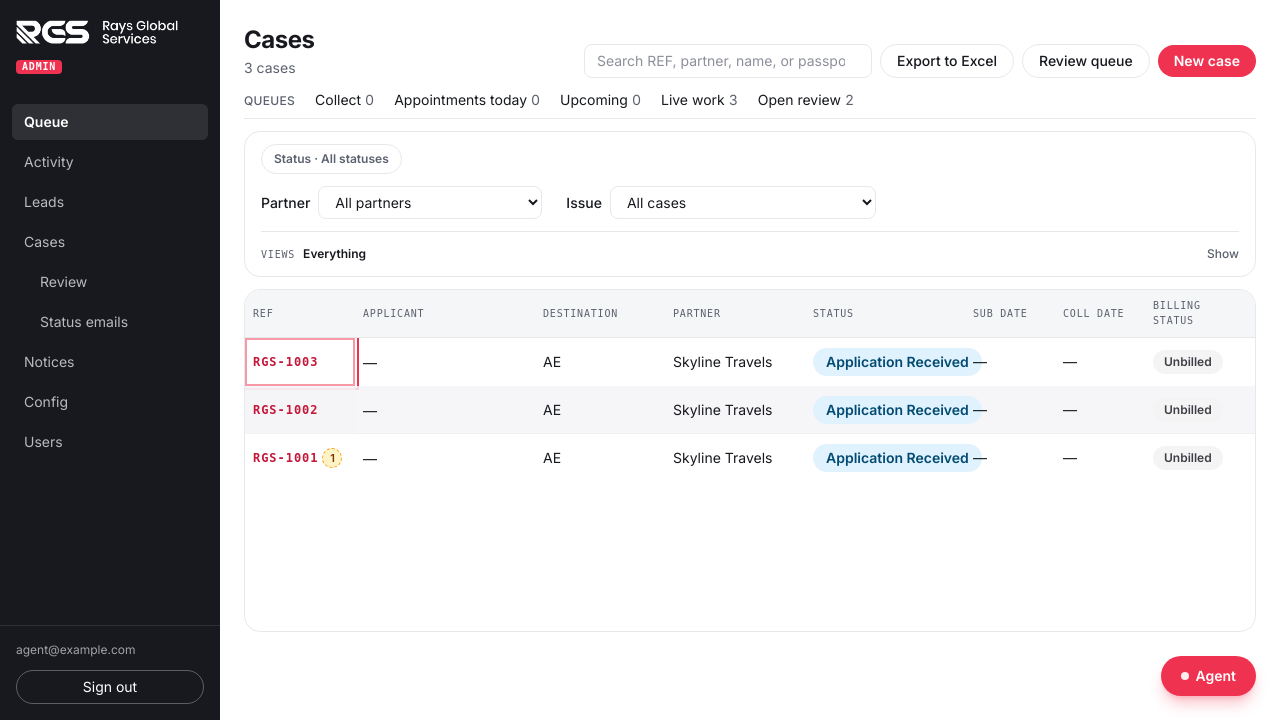
Test: LedgerPage — the issue filter › narrows the grid to the loaded cases carrying one open reason, badged or not, and counts them in the option
Select "May belong with another case (1)" in the dropdown labelled "Issue". click: (743, 202)
box: [610,186,876,219]
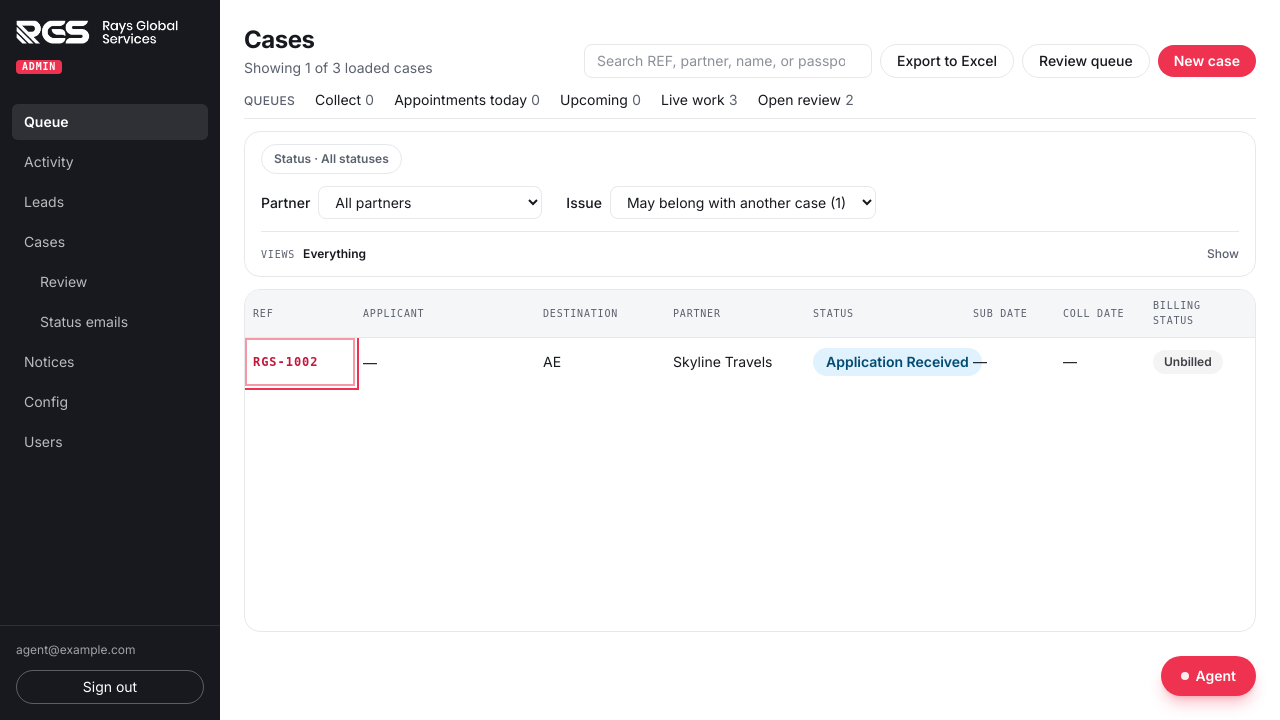
Expected: the link "RGS-1001" is gone
Expected: the link "RGS-1003" is gone
Expected: the text "Showing 1 of 3 loaded cases" is shown, [244,58,433,78]
Select "Without open issues (1)" in the dropdown labelled "Issue". click: (743, 202)
box: [610,186,876,219]
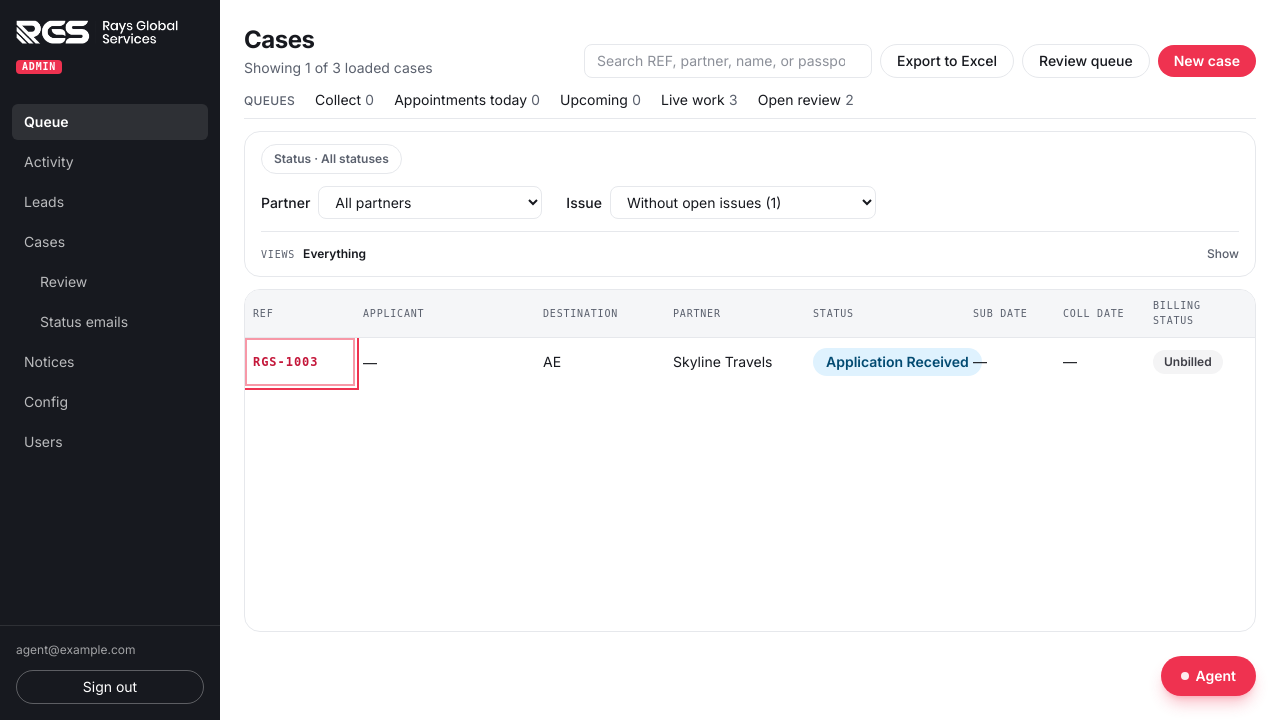
Expected: the link "RGS-1001" is not shown
Expected: the link "RGS-1003" is shown, [253,354,318,370]
